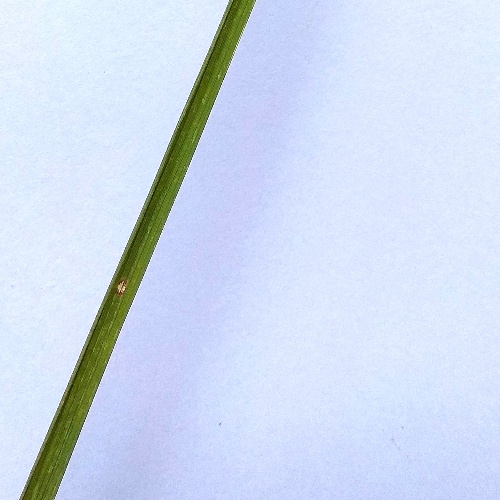Busuk Leher: (110, 274, 132, 298)
